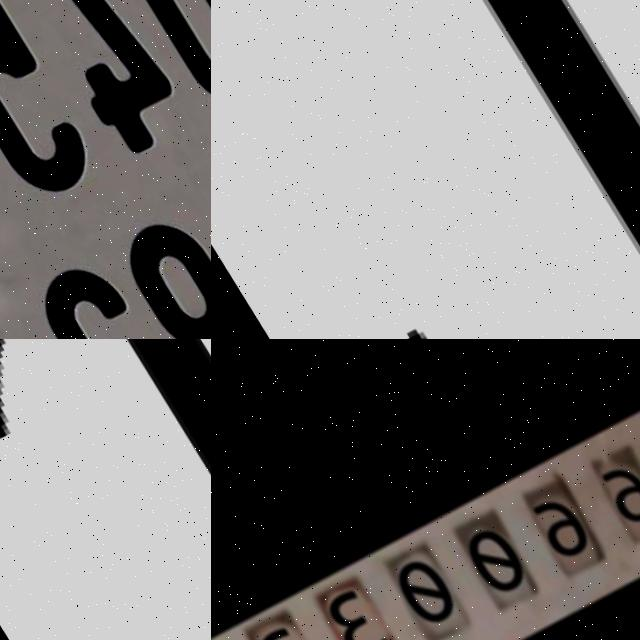0: (443, 498, 541, 607), (374, 532, 469, 637)
3: (9, 243, 211, 339), (304, 565, 400, 640), (235, 603, 330, 640)
4: (0, 0, 199, 166)
5: (0, 0, 101, 210)
6: (516, 466, 605, 566), (584, 432, 640, 530)
8: (98, 199, 211, 339)
L: (211, 0, 640, 339)
T: (0, 339, 211, 640)
U: (71, 0, 211, 118)
